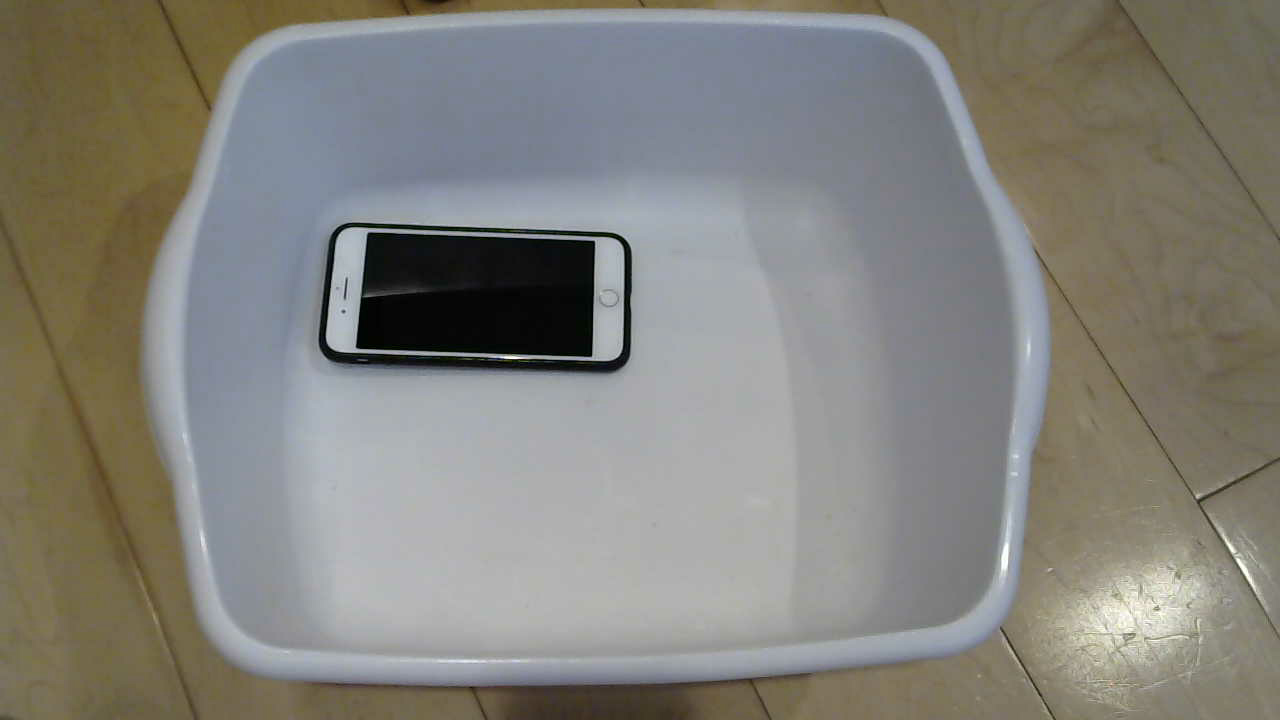phone: (313, 223, 645, 397)
